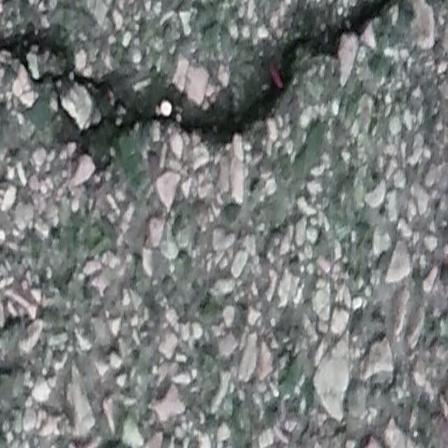crack: (0, 0, 407, 158)
